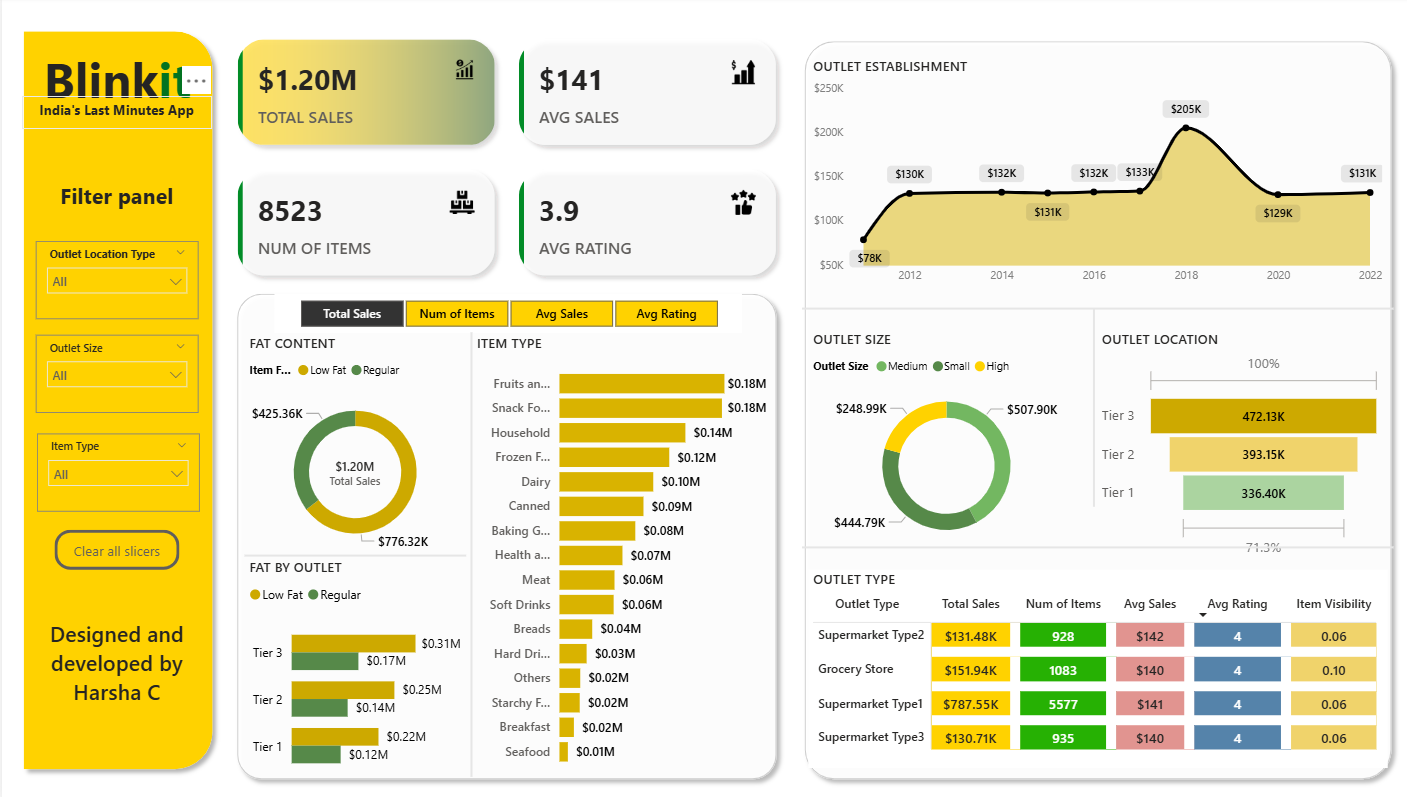

What the dashboard file says about the page in this screenshot:
{"tool":"powerbi","page":{"name":"Page 1","canvas":[1400,800],"ordinal":0},"visuals":[{"type":"shape","box":[12,25.5,205.6,750.4],"z":0},{"type":"textbox","box":[30,45,169.6,87.1],"z":1000},{"type":"textbox","box":[20.3,99.2,188.2,31.8],"z":2000},{"type":"cardVisual","fields":{"Data":["BlinkIT Grocery Data.Total Sales","BlinkIT Grocery Data.Avg Sales","BlinkIT Grocery Data.Num of Items","BlinkIT Grocery Data.Avg Rating"]},"box":[217.5,25.4,569.8,269.6],"z":3000},{"type":"shape","box":[225.1,286.2,553.2,499.8],"z":4000},{"type":"donutChart","title":"FAT CONTENT","fields":{"Y":["BlinkIT Grocery Data.Total Sales"],"Category":["BlinkIT Grocery Data.Item Fat Content"]},"box":[240.4,334.5,220,230.2],"z":5000},{"type":"slicer","fields":{"Values":["Metrics.Metrics"]},"box":[270.9,295.1,464.2,39.4],"z":6000},{"type":"cardVisual","fields":{"Data":["BlinkIT Grocery Data.Total Sales"]},"box":[300.1,438.8,100.5,68.7],"z":7000},{"type":"clusteredBarChart","title":"FAT BY OUTLET","fields":{"Y":["BlinkIT Grocery Data.Total Sales"],"Category":["BlinkIT Grocery Data.Outlet Location Type"],"Series":["BlinkIT Grocery Data.Item Fat Content"]},"box":[240.4,557.1,220,230.2],"z":8000},{"type":"shape","box":[240.4,545.6,220,19.1],"z":9000},{"type":"shape","box":[460.4,333.2,11.4,441.3],"z":10000},{"type":"barChart","title":"ITEM TYPE","fields":{"Y":["BlinkIT Grocery Data.Total Sales"],"Category":["BlinkIT Grocery Data.Item Type"]},"box":[466.8,334.5,297.6,440],"z":11000},{"type":"shape","box":[787.2,35.6,600.3,750.4],"z":12000},{"type":"lineChart","title":"OUTLET ESTABLISHMENT","fields":{"Category":["BlinkIT Grocery Data.Outlet Establishment Year"],"Y":["BlinkIT Grocery Data.Total Sales"]},"box":[800,59.8,574.9,235.3],"z":13000},{"type":"shape","box":[793.6,305.2,587.6,10.2],"z":14000},{"type":"donutChart","title":"OUTLET SIZE","fields":{"Y":["BlinkIT Grocery Data.Total Sales"],"Category":["BlinkIT Grocery Data.Outlet Size"]},"box":[800,331.6,274.7,225.1],"z":15000},{"type":"shape","box":[1081,310.3,6.4,197.1],"z":16000},{"type":"funnel","title":"OUTLET LOCATION","fields":{"Y":["Sum(BlinkIT Grocery Data.Sales)"],"Category":["BlinkIT Grocery Data.Outlet Location Type"]},"box":[1087.4,331.6,287.4,230.2],"z":17000},{"type":"shape","box":[793.6,541.8,587.6,10.2],"z":18000},{"type":"pivotTable","title":"OUTLET TYPE","fields":{"Rows":["BlinkIT Grocery Data.Outlet Type"],"Values":["BlinkIT Grocery Data.Total Sales","BlinkIT Grocery Data.Num of Items","BlinkIT Grocery Data.Avg Sales","BlinkIT Grocery Data.Avg Rating","Avg(BlinkIT Grocery Data.Item Visibility)"]},"box":[800,569.8,574.9,197.1],"z":19000},{"type":"slicer","fields":{"Values":["BlinkIT Grocery Data.Outlet Location Type"]},"box":[33.1,242.9,161.5,77.6],"z":20000},{"type":"slicer","fields":{"Values":["BlinkIT Grocery Data.Outlet Size"]},"box":[33.1,335.8,161.5,77.6],"z":21000},{"type":"slicer","fields":{"Values":["BlinkIT Grocery Data.Item Type"]},"box":[34.3,433.7,161.5,77.6],"z":22000},{"type":"textbox","box":[20.3,178.1,188.2,44.5],"z":23000},{"type":"actionButton","box":[52.1,529.8,124.1,39.7],"z":24000},{"type":"textbox","box":[19.9,612.9,188.6,120.3],"z":24001}]}

Visuals, with their boxes in screenshot pixels (x1, y1, x2, y2), scaled from the page's 1400x800 canvas onto the 1407x797 screenshot:
shape: (12, 25, 219, 773)
textbox: (30, 45, 201, 132)
textbox: (20, 99, 210, 131)
cardVisual - BlinkIT Grocery Data.Total Sales x BlinkIT Grocery Data.Avg Sales: (219, 25, 791, 294)
shape: (226, 285, 782, 783)
"FAT CONTENT" donutChart: (242, 333, 463, 563)
slicer - Metrics.Metrics: (272, 294, 739, 333)
cardVisual - BlinkIT Grocery Data.Total Sales: (302, 437, 403, 506)
"FAT BY OUTLET" clusteredBarChart: (242, 555, 463, 784)
shape: (242, 544, 463, 563)
shape: (463, 332, 474, 772)
"ITEM TYPE" barChart: (469, 333, 768, 772)
shape: (791, 35, 1394, 783)
"OUTLET ESTABLISHMENT" lineChart: (804, 60, 1382, 294)
shape: (798, 304, 1388, 314)
"OUTLET SIZE" donutChart: (804, 330, 1080, 555)
shape: (1086, 309, 1093, 505)
"OUTLET LOCATION" funnel: (1093, 330, 1382, 560)
shape: (798, 540, 1388, 550)
"OUTLET TYPE" pivotTable: (804, 568, 1382, 764)
slicer - BlinkIT Grocery Data.Outlet Location Type: (33, 242, 196, 319)
slicer - BlinkIT Grocery Data.Outlet Size: (33, 335, 196, 412)
slicer - BlinkIT Grocery Data.Item Type: (34, 432, 197, 509)
textbox: (20, 177, 210, 222)
actionButton: (52, 528, 177, 567)
textbox: (20, 611, 210, 730)
